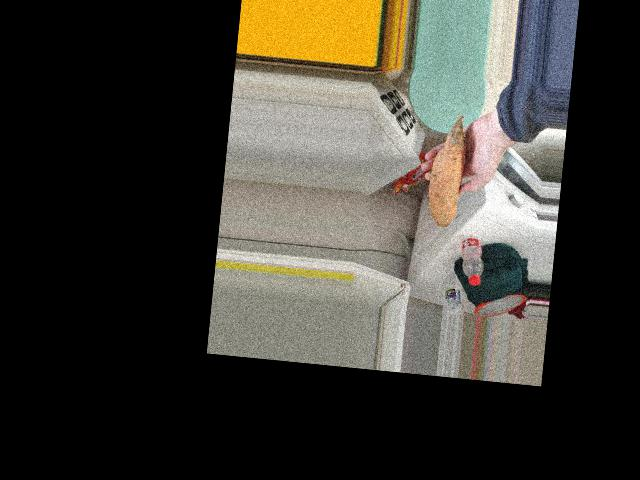sweet_potato: (425, 117, 470, 228)
